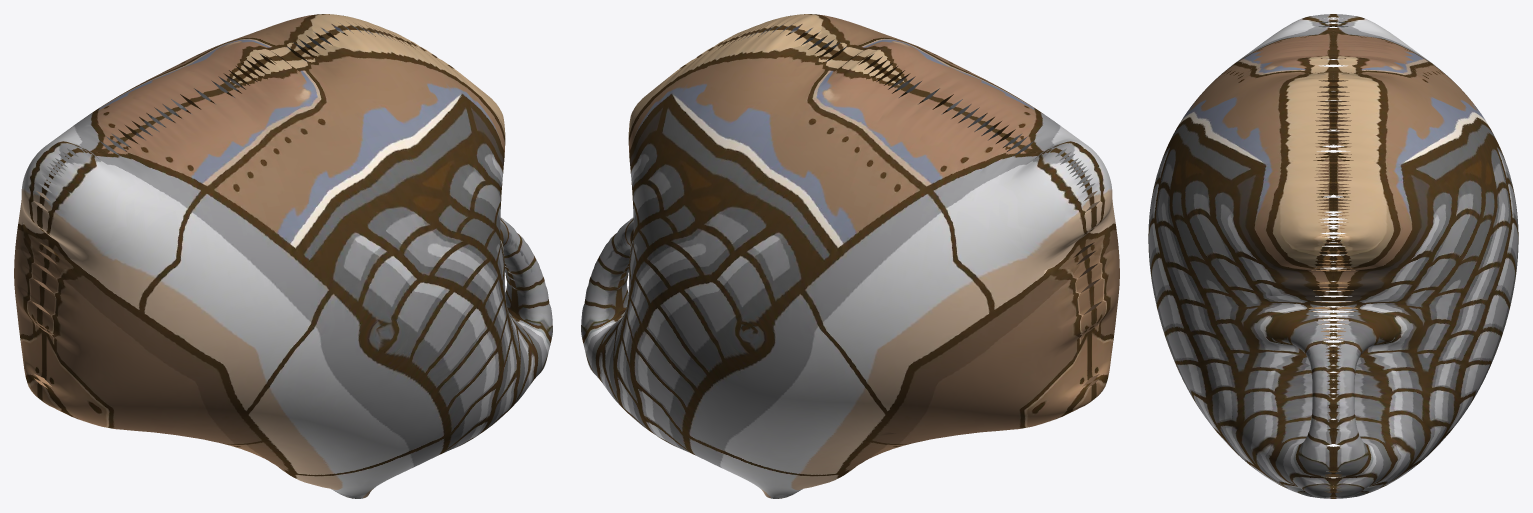
File: cable_casing.glb
3 renders of one model, left to right at view 1: azimuth 30°, elevation 25°; view 2: azimuth 150°, elevation 25°; view 3: azimuth 270°, elevation 25°, orthographic. The views are drawn at different scales.
Visible parts, largest first — view 1: cable_casing; view 2: cable_casing; view 3: cable_casing.
Part boxes in pixels (left/top/right/bottom): cable_casing: left=14, top=14, right=552, bottom=498; cable_casing: left=581, top=14, right=1119, bottom=498; cable_casing: left=1148, top=14, right=1518, bottom=498.
Bounding box in the file's own units: 0.9889 × 0.817 × 0.7118.
Materials: 1 (1 with a texture image).
